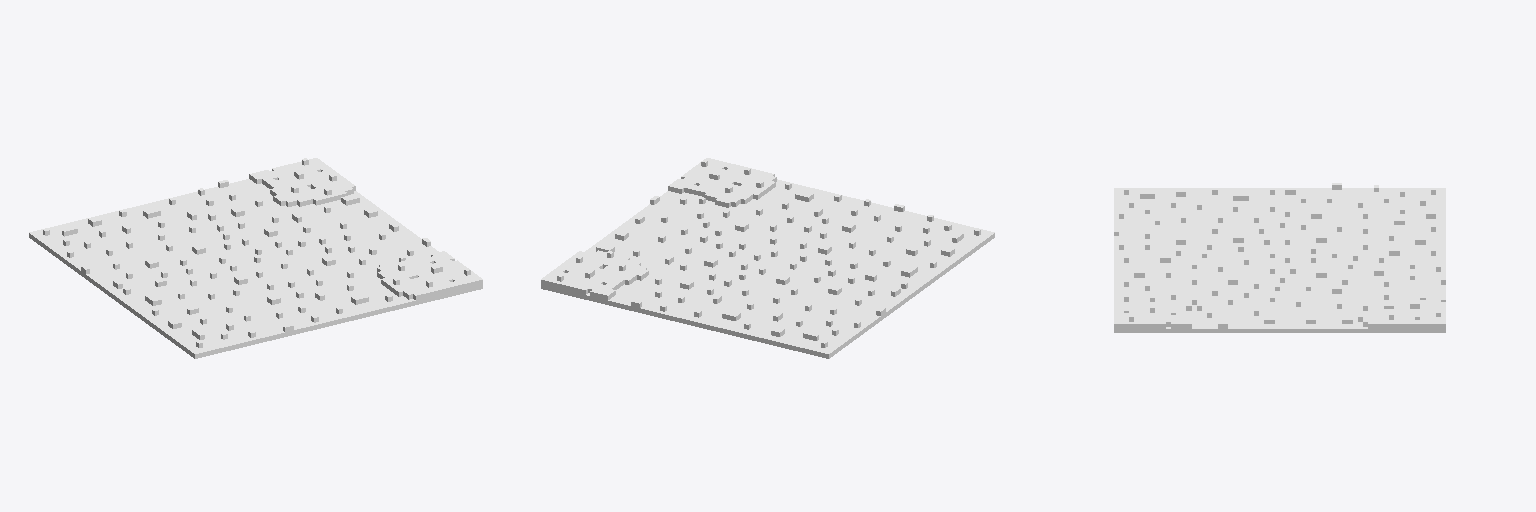
File: EarthenPath4Fork_3.obj
3 views of the same model, side by side, from view 1: azimuth 30°, elevation 25°; view 2: azimuth 150°, elevation 25°; view 3: azimuth 270°, elevation 25° (orthographic).
Parts seen in each view (by area): view 1: EarthenPath4Fork_3.001; view 2: EarthenPath4Fork_3.001; view 3: EarthenPath4Fork_3.001.
Boxes of the visible parts, x1=… form: EarthenPath4Fork_3.001: x1=29, y1=158, x2=482, y2=358; EarthenPath4Fork_3.001: x1=541, y1=158, x2=994, y2=358; EarthenPath4Fork_3.001: x1=1114, y1=183, x2=1445, y2=332.
Size of the model in its own units: 1 by 0.0469 by 1.